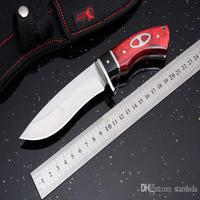knife: (16, 23, 169, 148)
